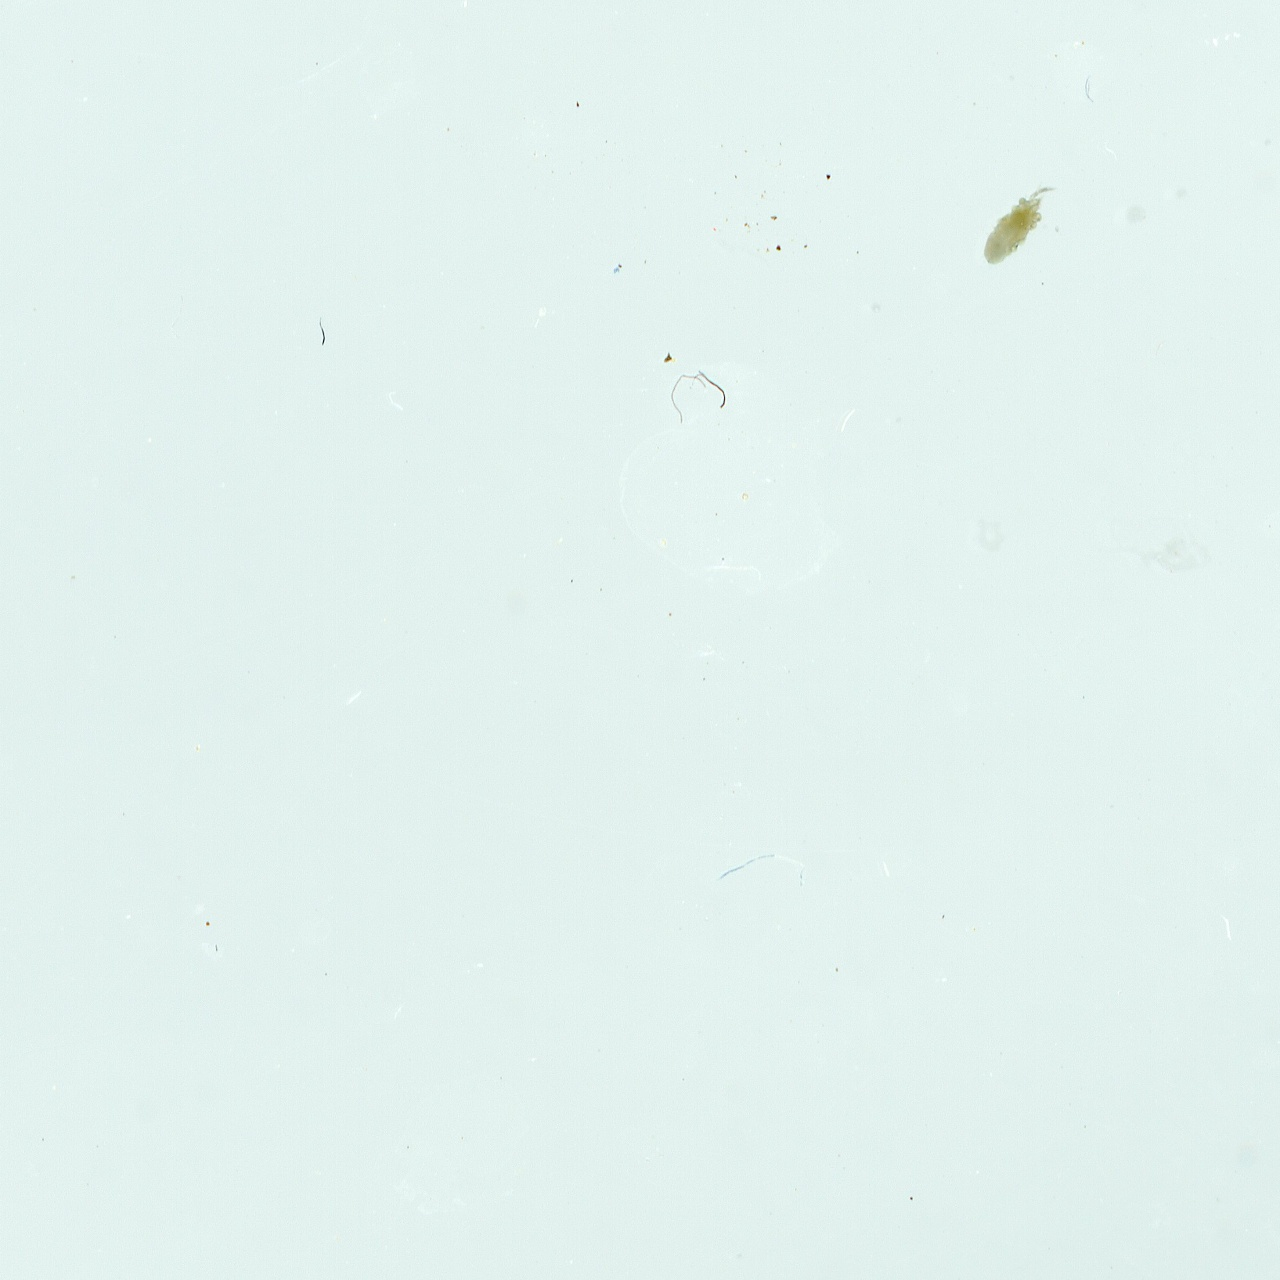arthropod: (968, 166, 1074, 281)
